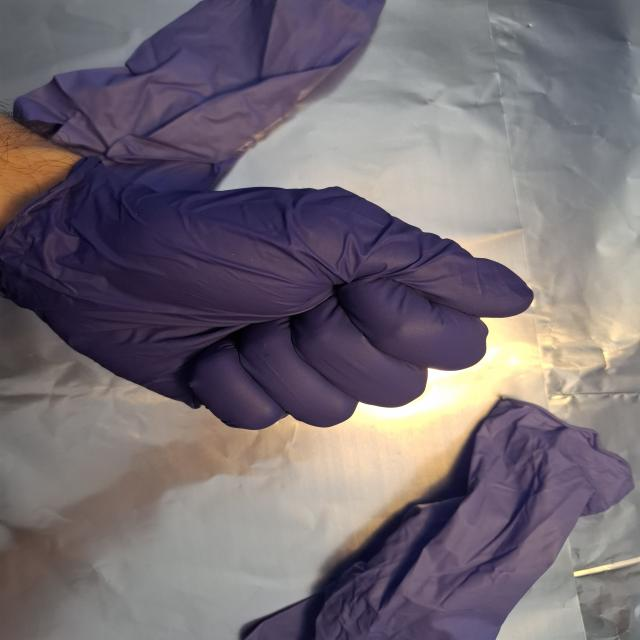glove_on: (2, 155, 541, 433)
